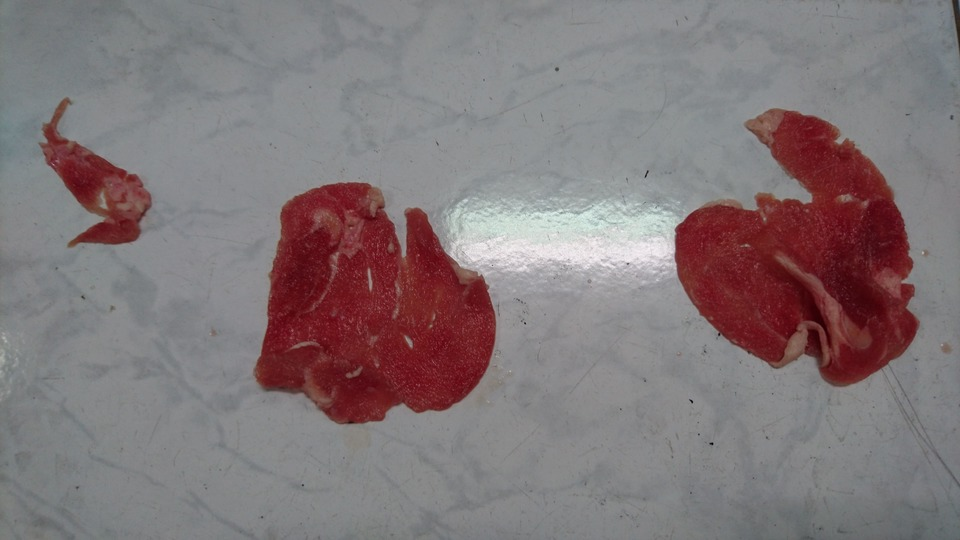restructured meat: (220, 143, 519, 437), (676, 96, 919, 392), (43, 91, 160, 259)
